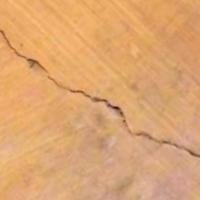crack: (0, 21, 199, 166)
